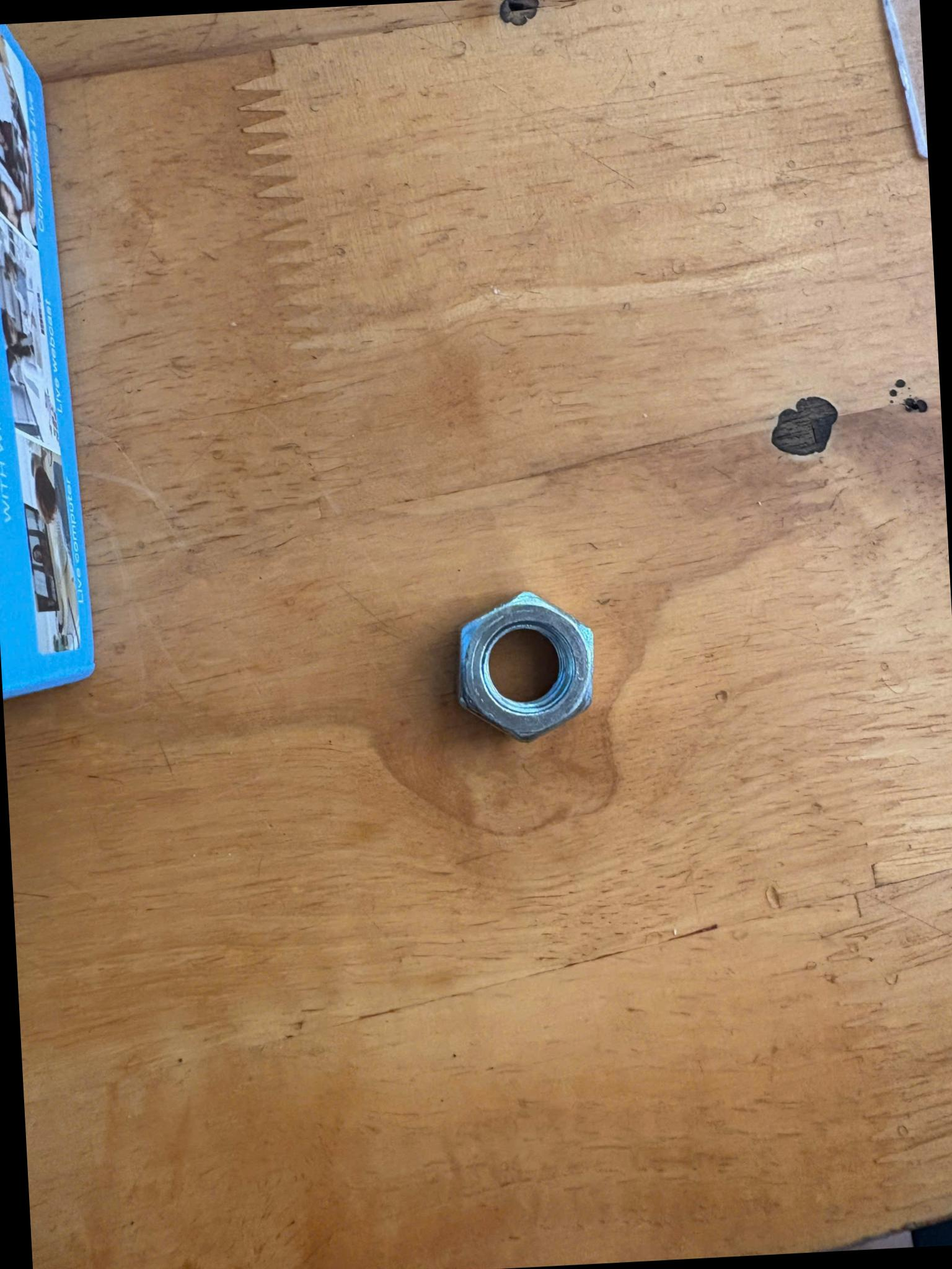nut: (452, 552, 600, 768)
